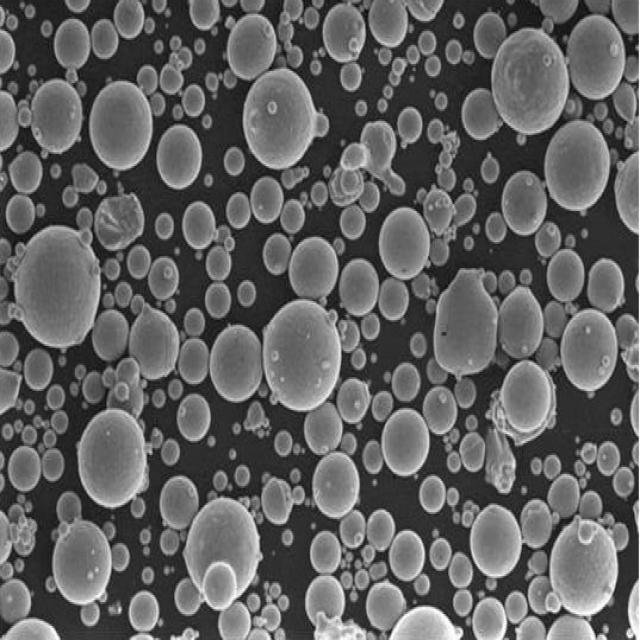cells: (10, 224, 101, 347), (243, 68, 330, 172), (490, 28, 570, 136), (264, 301, 344, 408), (182, 498, 262, 604), (434, 266, 500, 382), (46, 521, 114, 625), (547, 522, 619, 618), (78, 408, 146, 506), (542, 121, 610, 212), (89, 80, 154, 170), (487, 359, 552, 447), (561, 310, 620, 400), (342, 121, 408, 196), (568, 16, 624, 98), (210, 324, 264, 404), (30, 81, 84, 159), (128, 303, 181, 382), (497, 283, 546, 362), (469, 505, 522, 576), (287, 234, 340, 305), (380, 206, 429, 278), (381, 410, 429, 476), (94, 190, 146, 250), (227, 15, 276, 78), (312, 452, 358, 518), (156, 126, 202, 190), (504, 170, 546, 236), (388, 605, 462, 640), (302, 398, 345, 457), (461, 86, 504, 142), (324, 5, 366, 61), (0, 500, 35, 567), (340, 260, 380, 315), (366, 579, 406, 631), (546, 250, 585, 303), (305, 578, 348, 626), (389, 529, 427, 583), (162, 477, 200, 531), (485, 431, 516, 496), (589, 257, 625, 312), (616, 152, 640, 234), (107, 362, 146, 412), (421, 384, 458, 436), (335, 376, 374, 425), (369, 0, 409, 47), (54, 19, 90, 71), (519, 496, 555, 548), (472, 11, 508, 62), (182, 200, 218, 250), (93, 311, 129, 361), (176, 337, 212, 387), (546, 472, 582, 520), (177, 393, 212, 442), (201, 563, 237, 609), (249, 176, 284, 223), (7, 443, 42, 490), (424, 185, 456, 236), (427, 118, 460, 167), (262, 478, 294, 524), (473, 597, 507, 640), (0, 578, 31, 623), (8, 154, 42, 195), (0, 89, 21, 154), (365, 508, 396, 552), (148, 257, 180, 299), (127, 592, 160, 632), (329, 168, 365, 204), (312, 532, 342, 575), (114, 0, 146, 39), (379, 278, 408, 320), (458, 432, 487, 474), (447, 192, 477, 232), (24, 348, 53, 389), (220, 604, 253, 640), (174, 575, 202, 617), (264, 233, 292, 273), (393, 364, 422, 402), (6, 197, 36, 233), (526, 575, 551, 618), (338, 510, 367, 547), (92, 18, 118, 59), (419, 476, 447, 513), (81, 369, 109, 406), (340, 203, 368, 240), (280, 198, 307, 236), (204, 282, 232, 318), (398, 105, 423, 145), (543, 299, 570, 336), (70, 162, 101, 194), (535, 220, 561, 258), (448, 551, 474, 589), (524, 549, 550, 586), (536, 335, 562, 372), (57, 490, 82, 528), (205, 247, 232, 281), (336, 318, 362, 353), (578, 489, 604, 524), (181, 82, 206, 118), (428, 233, 452, 270), (362, 434, 383, 476), (126, 245, 151, 280), (612, 464, 637, 499), (190, 0, 219, 30), (504, 590, 528, 626), (614, 313, 638, 349), (0, 331, 21, 371), (243, 402, 269, 434), (0, 25, 16, 77), (597, 442, 621, 476), (228, 192, 252, 226), (359, 178, 381, 214), (372, 389, 396, 422), (79, 597, 101, 632), (40, 450, 65, 480), (137, 63, 159, 97), (515, 616, 546, 640), (223, 146, 246, 178), (452, 586, 475, 618), (604, 521, 628, 551), (340, 62, 362, 94), (480, 152, 501, 185), (184, 306, 206, 337), (456, 378, 478, 409), (160, 65, 184, 93), (159, 438, 182, 467), (430, 539, 452, 569), (273, 427, 293, 459), (487, 210, 506, 243), (160, 525, 180, 556), (310, 178, 330, 209), (112, 539, 131, 571), (417, 27, 437, 57), (154, 212, 175, 240), (237, 279, 257, 307), (497, 270, 517, 298), (262, 603, 282, 631), (361, 314, 382, 340), (175, 44, 194, 72), (423, 54, 442, 82), (114, 282, 133, 309), (148, 91, 167, 118), (444, 38, 463, 65), (46, 386, 68, 409), (388, 62, 406, 90), (340, 430, 358, 458), (276, 20, 294, 48), (76, 201, 95, 227), (233, 462, 252, 487), (212, 467, 230, 493), (544, 454, 562, 480), (214, 228, 234, 251), (411, 333, 428, 360), (102, 256, 120, 281), (61, 186, 81, 208), (302, 8, 320, 32), (222, 67, 238, 93), (580, 441, 596, 467), (149, 427, 166, 451), (376, 45, 394, 67), (284, 0, 302, 22), (130, 496, 147, 519), (405, 44, 422, 66), (286, 48, 303, 70), (446, 451, 463, 473), (350, 347, 367, 369), (168, 376, 184, 399), (368, 562, 388, 580), (515, 267, 534, 285), (21, 424, 38, 444), (204, 71, 221, 91), (52, 412, 68, 433), (114, 381, 130, 402), (78, 224, 92, 248), (414, 573, 430, 594), (141, 13, 155, 36), (44, 573, 60, 593), (17, 105, 32, 126), (6, 10, 20, 32), (392, 57, 407, 77), (291, 486, 306, 506), (309, 58, 323, 79), (595, 99, 609, 120), (140, 566, 156, 584), (355, 568, 368, 590), (44, 428, 57, 450), (153, 387, 165, 410), (353, 100, 370, 116), (277, 594, 291, 613), (266, 97, 279, 117), (40, 21, 53, 41), (245, 596, 261, 612), (381, 83, 395, 101), (280, 528, 294, 546), (435, 91, 448, 110), (363, 543, 375, 563), (269, 580, 281, 600), (448, 489, 462, 506), (172, 104, 184, 123), (610, 408, 622, 427), (72, 366, 86, 382), (200, 114, 214, 130), (23, 2, 37, 18), (104, 289, 115, 309), (152, 38, 164, 56), (466, 413, 478, 431), (461, 510, 475, 525), (139, 529, 152, 545), (202, 172, 215, 188), (454, 13, 466, 30), (24, 399, 35, 417), (194, 39, 207, 54), (49, 162, 61, 178), (166, 298, 178, 314), (3, 422, 13, 441), (532, 456, 541, 476), (462, 238, 474, 253), (163, 263, 174, 279), (226, 233, 236, 250), (444, 441, 454, 455), (232, 420, 240, 436), (36, 208, 46, 220), (378, 98, 388, 110)
